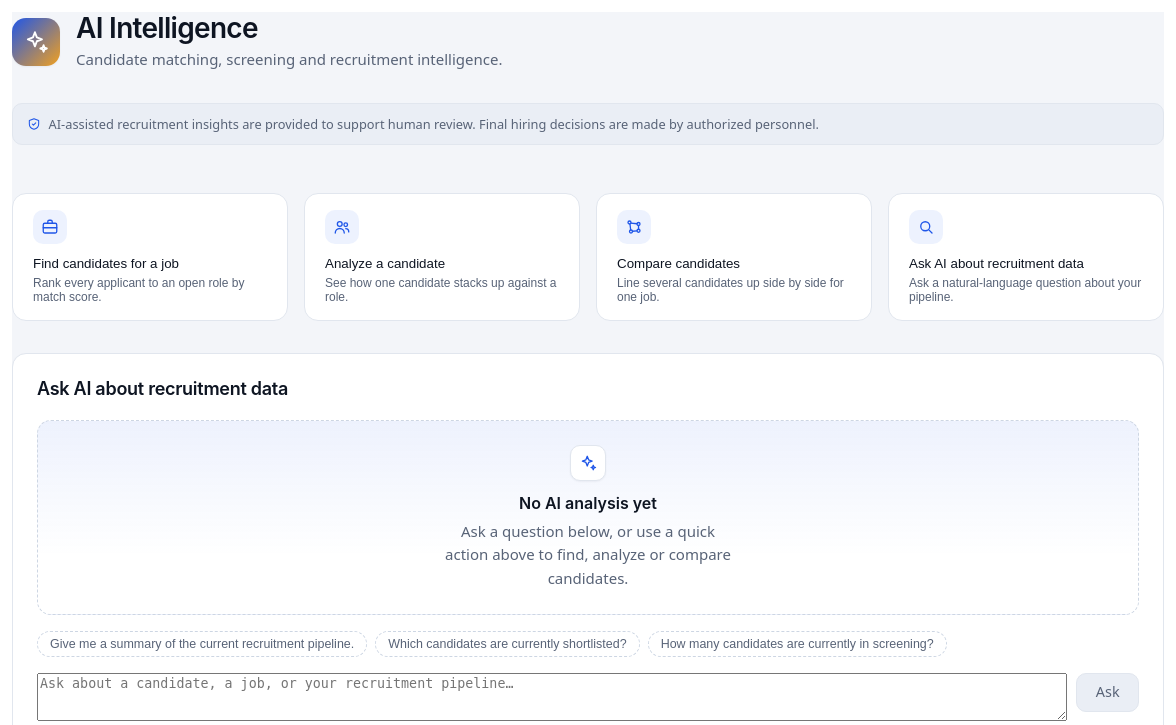
it: AiWorkspacePage › submits a natural-language query and renders the assistant's structured response
Type "Is this candidate suitable for this role?" into the text box with placeholder "Ask about a candidate, a job, or your recruitment pipeline…" at x=552, y=696, box top-left (37, 672), bottom-right (1067, 720)
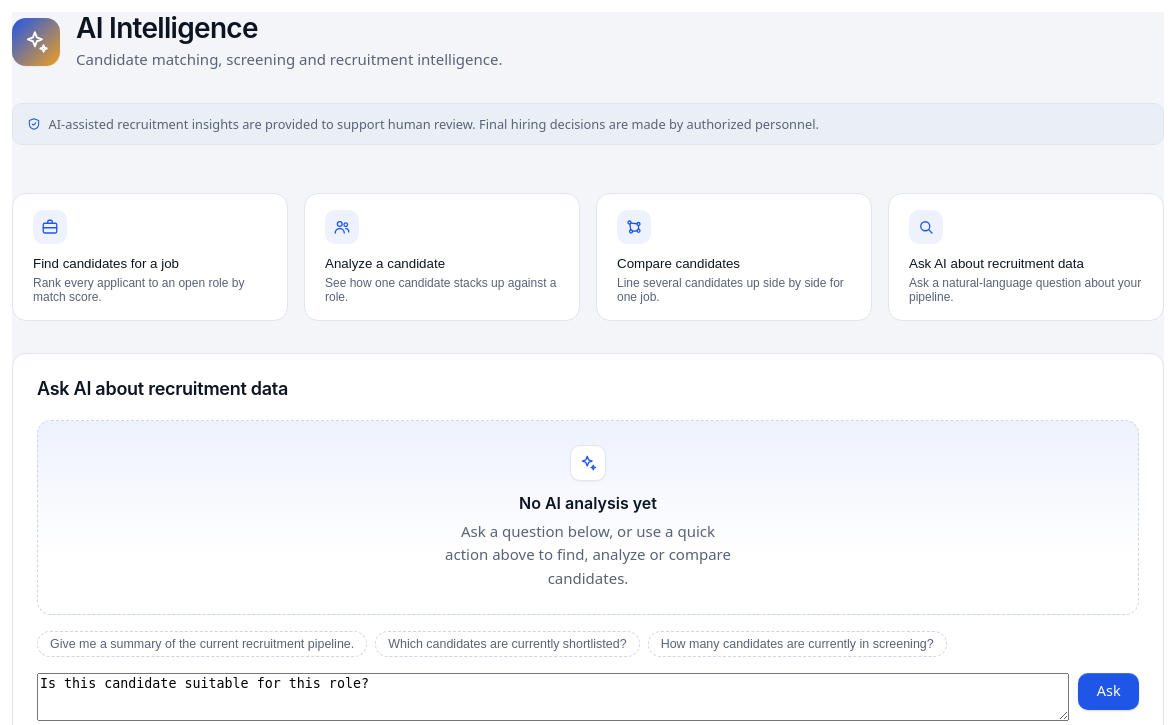
Click the button "Ask" at x=1109, y=691, box top-left (1078, 672), bottom-right (1139, 710)
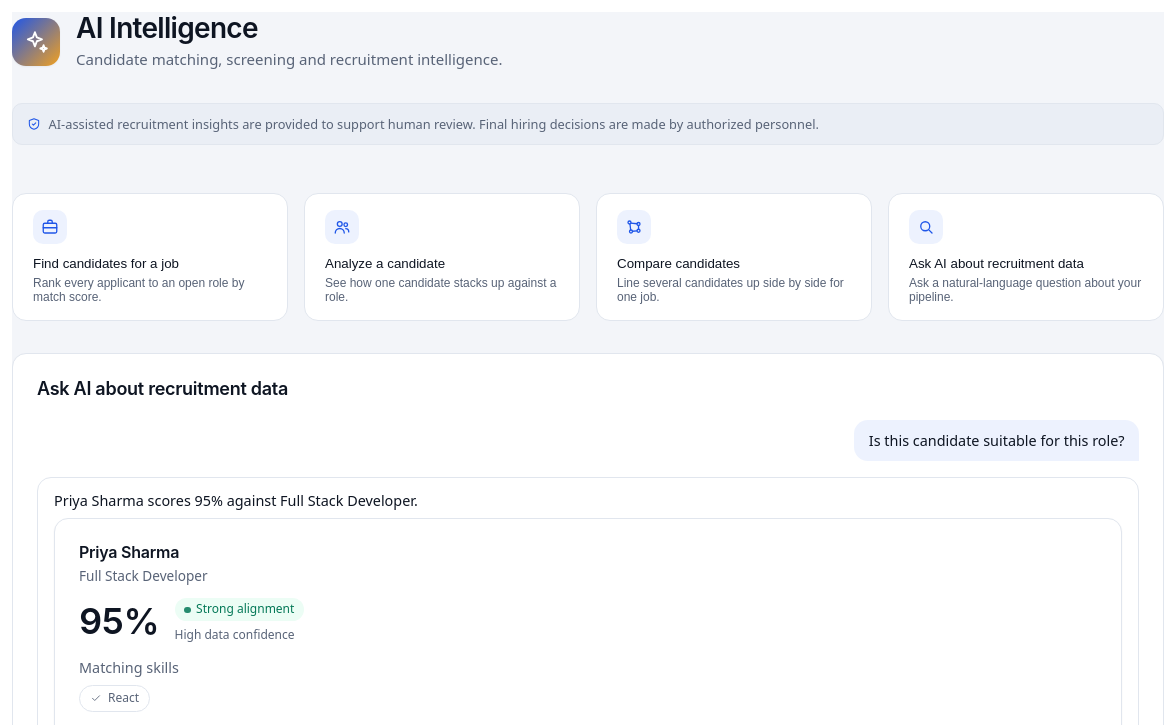
Check: the text "Is this candidate suitable for this role?" is shown, box top-left (869, 430), bottom-right (1125, 452)
Check: the text "Priya Sharma scores 95% against Full Stack Developer." is shown, box top-left (54, 492), bottom-right (418, 510)
Check: the text "95%" is shown, box top-left (79, 603), bottom-right (158, 639)
